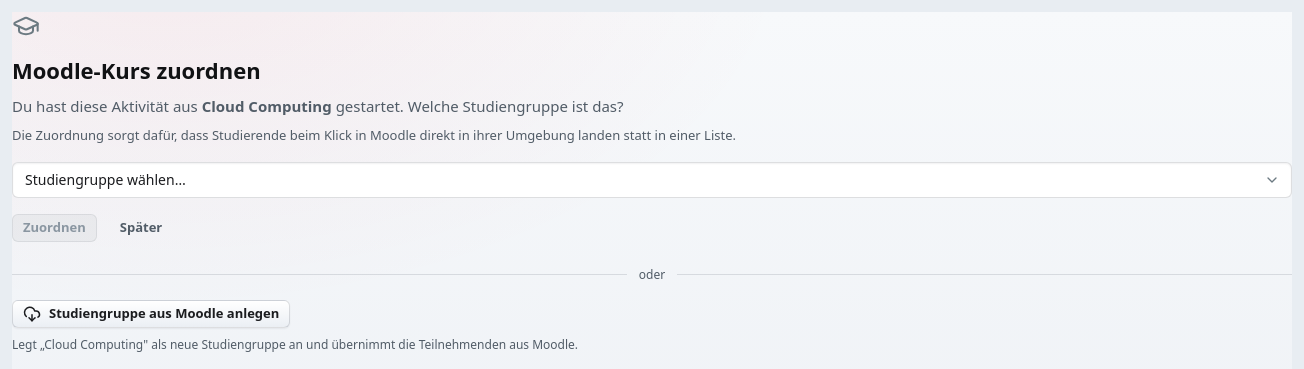
Test: LtiCourseMapView — Studiengruppe aus Moodle anlegen › creates the group and reports what came across
Click the button with test id "map-import" at (151, 314), box 12,300 -> 290,328
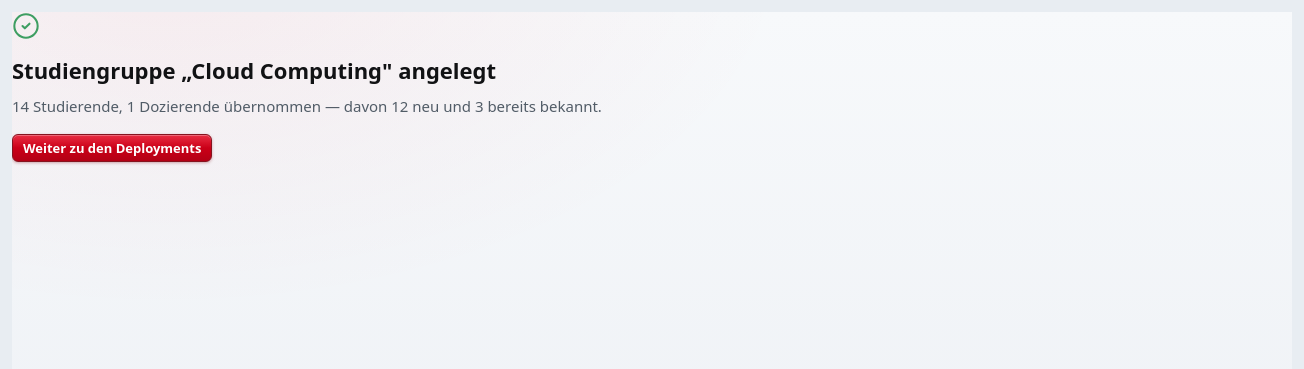
Expected: the text "Cloud Computing" is shown, 12,55 -> 496,85
Now the element with test id "import-success" is shown, box 12,12 -> 602,162
Now the text "14" is shown, box 12,96 -> 602,116
